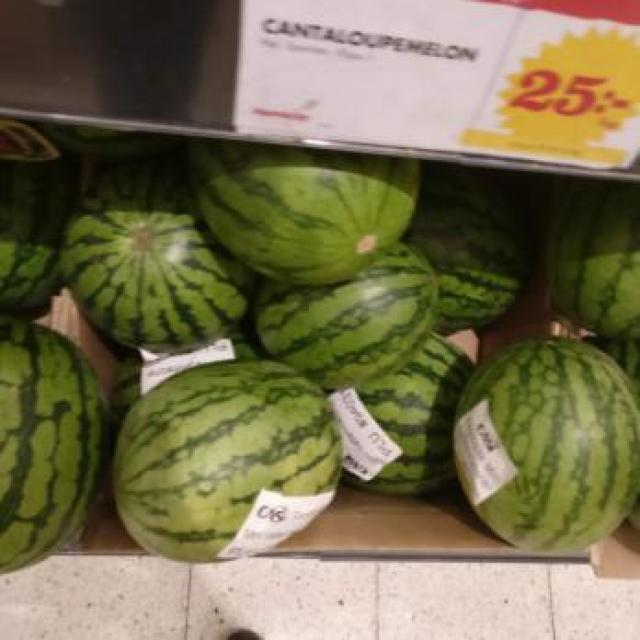Watermelon: (110, 352, 342, 569), (55, 140, 261, 350), (460, 335, 638, 556), (193, 133, 438, 280), (232, 230, 458, 379), (0, 322, 108, 577), (550, 186, 638, 340)
